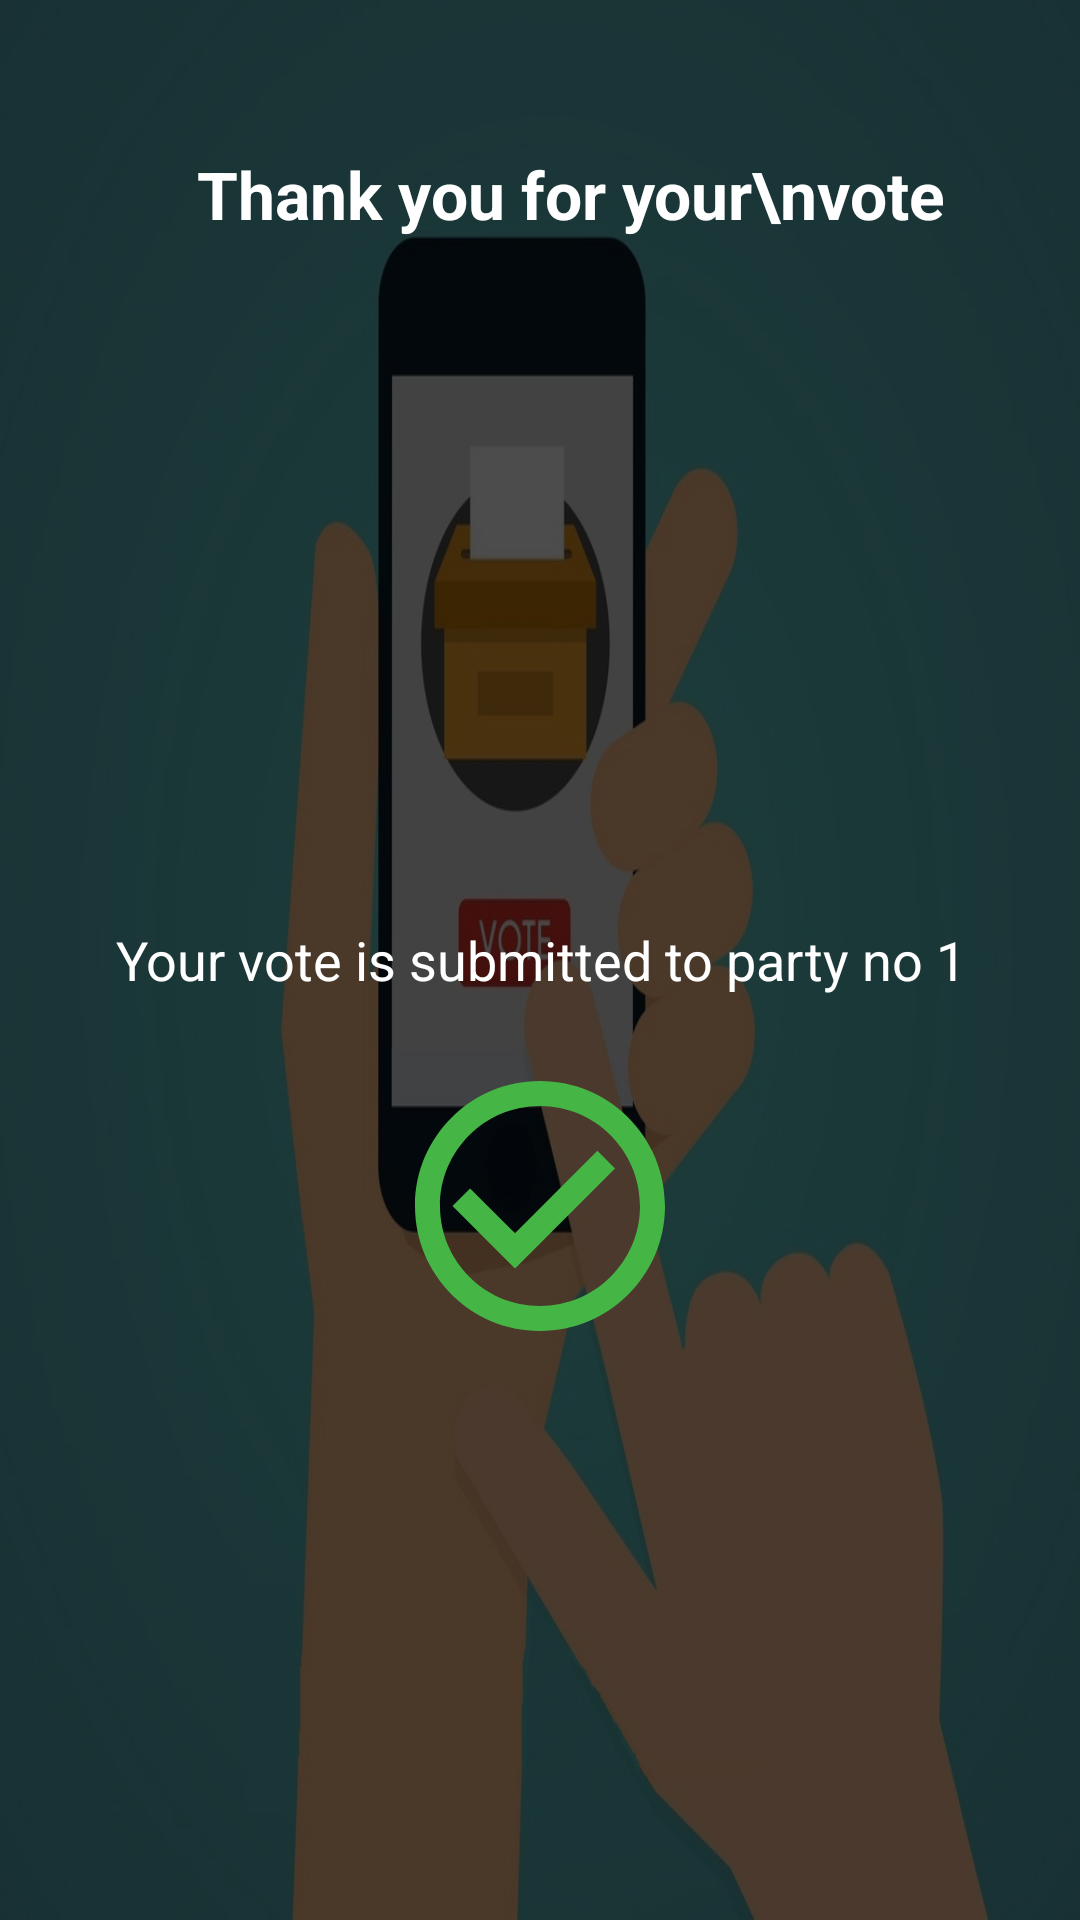

Named icons in this screenshot (1080×1920) and their centers, point (x, y):
voted: point (540, 1206)
